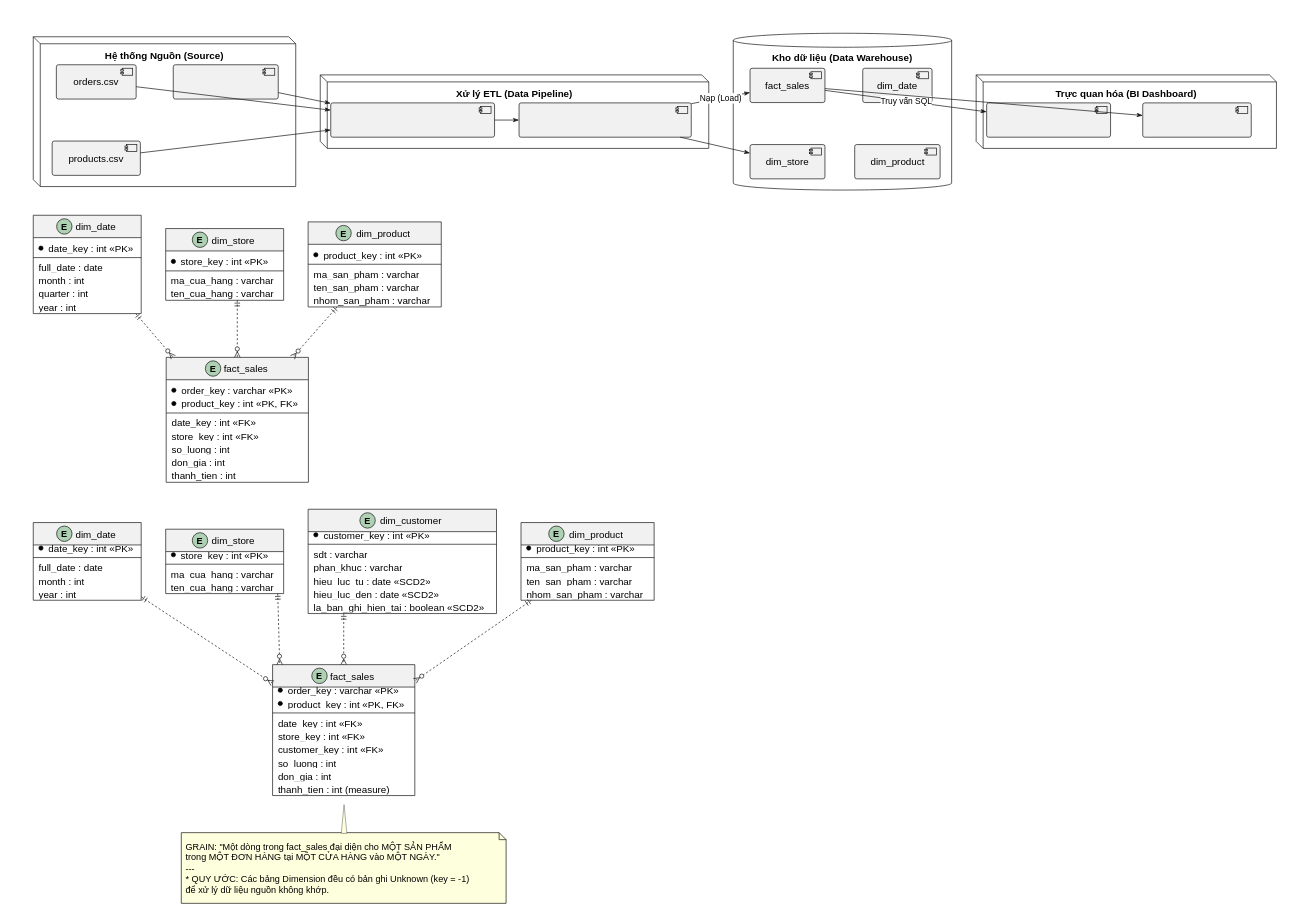
The diagram is 1289 pixels wide and 916 high, and some of its shapes have lost their labels. Each missing label, with the centre of its shape:
"Báo cáo Retention" belongs at point 1196,119.
"Dashboard Doanh thu" belongs at point 1048,119.
"Khớp nối & Biến đổi (Transform)" belongs at point 604,119.
"Làm sạch & Chuẩn hóa (Clean)" belongs at point 412,119.
"order_items.csv" belongs at point 225,81.
